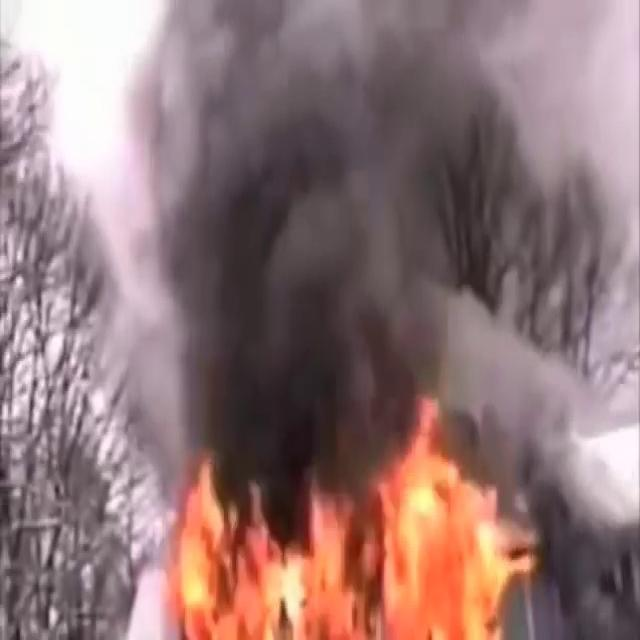Fire: (155, 418, 527, 640)
Smoke: (78, 0, 636, 500)
